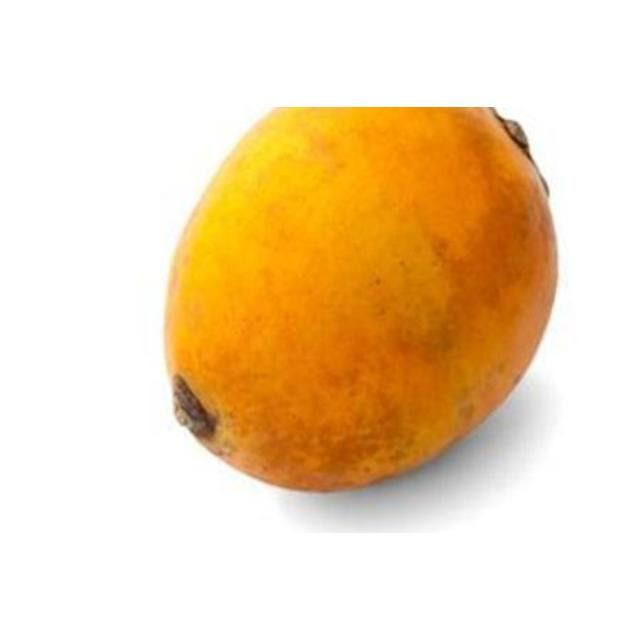good: (161, 107, 562, 495)
